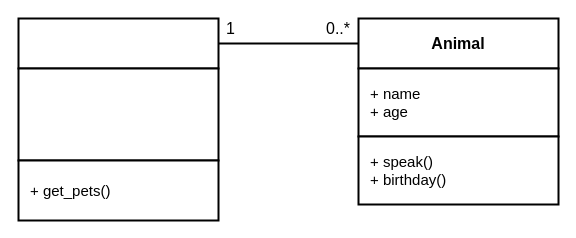
The diagram is 576 pixels wide and 238 high, and some of its shapes have lost their labels. The centre of each missing label's shape, as x and y in pixels:
"+ name + address + pets" goes at point (118, 114).
"Person" goes at point (118, 43).
